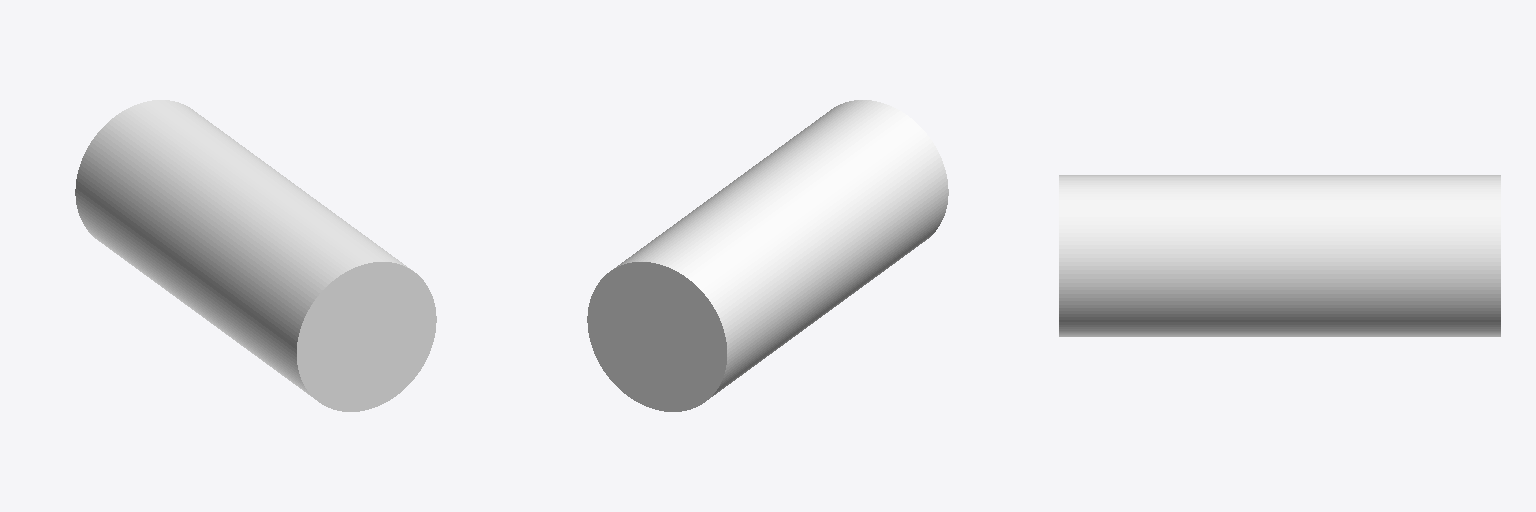
The model's file is stax.obj.
The picture shows the model from 3 angles: view 1: azimuth 30°, elevation 25°; view 2: azimuth 150°, elevation 25°; view 3: azimuth 270°, elevation 25°; orthographic projection.
Bounding box in the file's own units: 0.084 × 0.084 × 0.23.